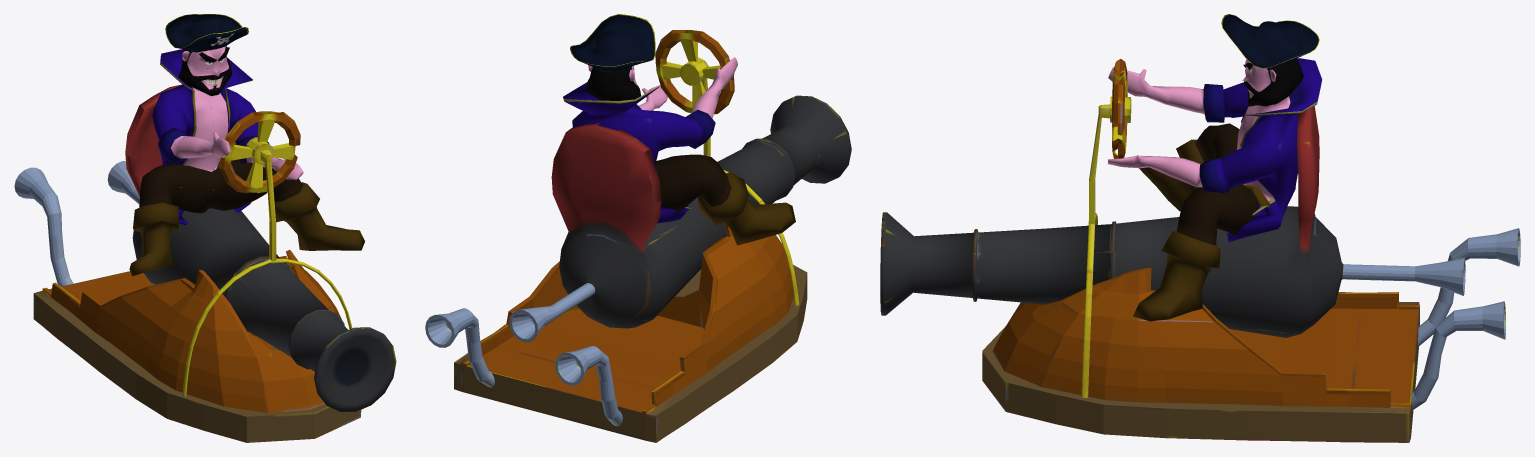
File: pirataGiroDER_000539.obj
3 views of the same model, side by side, from view 1: azimuth 30°, elevation 25°; view 2: azimuth 150°, elevation 25°; view 3: azimuth 270°, elevation 25° (orthographic). The views are drawn at different scales.
Parts seen in each view (by area): view 1: carro_pirata, Pirata_PirataH; view 2: carro_pirata, Pirata_PirataH; view 3: carro_pirata, Pirata_PirataH.
Boxes of the visible parts, x1,y1,x2,y2 form: carro_pirata: (14, 84, 396, 442); Pirata_PirataH: (129, 14, 364, 276); carro_pirata: (425, 30, 851, 442); Pirata_PirataH: (563, 14, 795, 245); carro_pirata: (880, 59, 1520, 442); Pirata_PirataH: (1108, 14, 1322, 321).
Bounding box in the file's own units: 5.71 × 7.69 × 12.1.
